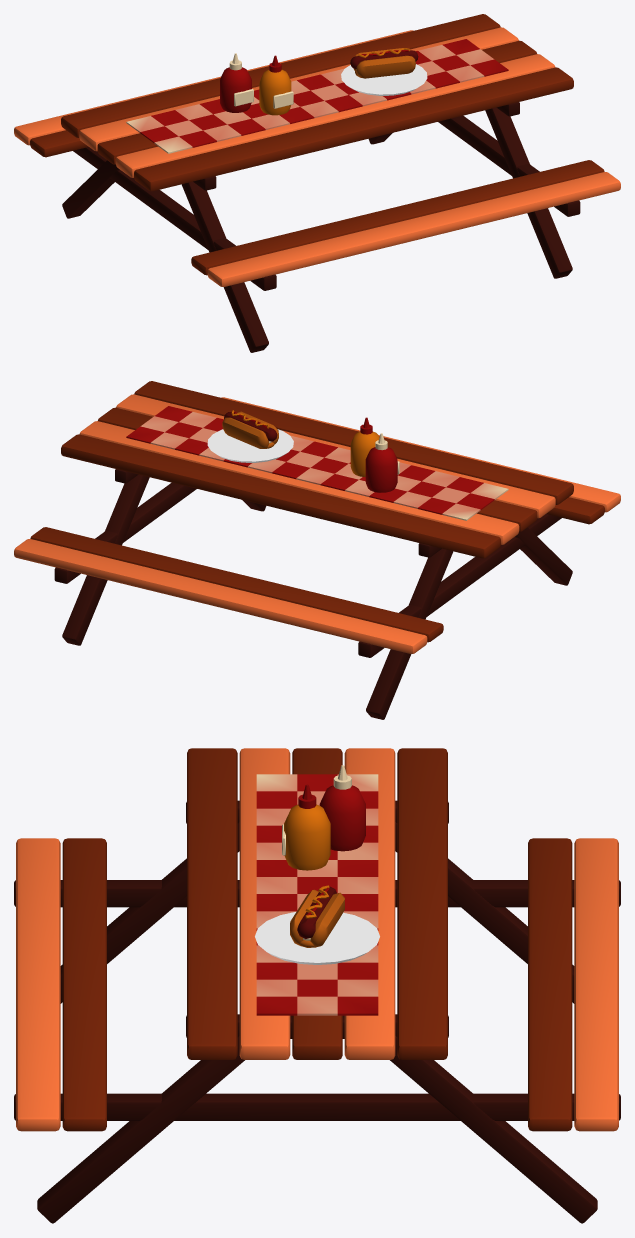
The model's file is PicnicTable.obj.
The picture shows the model from 3 angles, top to bottom: view 1: azimuth 30°, elevation 25°; view 2: azimuth 150°, elevation 25°; view 3: azimuth 270°, elevation 25°; orthographic projection. The views are drawn at different scales.
Parts seen in each view (by area): view 1: PicnicTable; view 2: PicnicTable; view 3: PicnicTable.
Boxes of the visible parts, x1,y1,x2,y2 form: PicnicTable: (14,14,620,352); PicnicTable: (14,381,620,719); PicnicTable: (14,748,620,1223).
Size of the model in its own units: 7 by 3.22 by 6.
